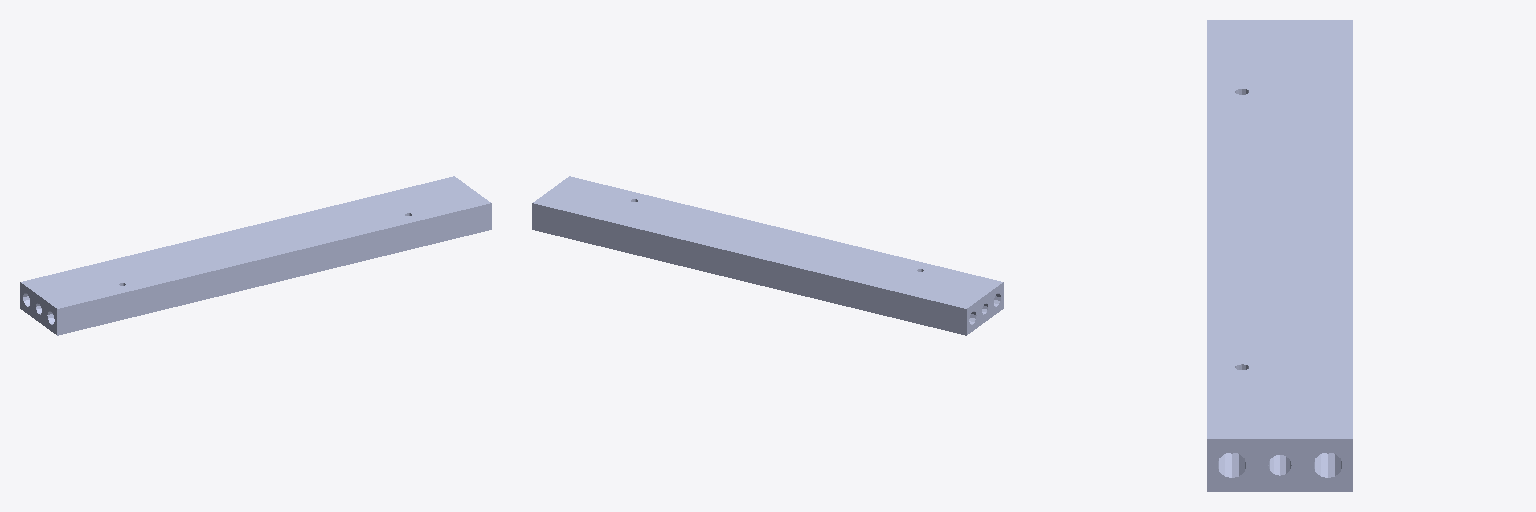
URDF robot description (part2.SLDPRT):
<?xml version="1.0" encoding="utf-8"?>
<!-- This URDF was automatically created by SolidWorks to URDF Exporter! Originally created by [author] ([email redacted]) 
     Commit Version: 1.5.1-0-g916b5db  Build Version: 1.5.7152.31018
     For more information, please see http://wiki.ros.org/sw_urdf_exporter -->
<robot
  name="part2.SLDPRT">
  <link
    name="part2.SLDPRT">
    <inertial>
      <origin
        xyz="9.5872E-19 1.5409E-05 0.0099941"
        rpy="0 0 0" />
      <mass
        value="0.33131" />
      <inertia
        ixx="8.0281E-05"
        ixy="-3.3402E-20"
        ixz="1.6479E-20"
        iyy="0.0030691"
        iyz="2.5556E-08"
        izz="0.0031268" />
    </inertial>
    <visual>
      <origin
        xyz="0 0 0"
        rpy="0 0 0" />
      <geometry>
        <mesh
          filename="package://part2.SLDPRT/meshes/part2.SLDPRT.STL" />
      </geometry>
      <material
        name="">
        <color
          rgba="0.79216 0.81961 0.93333 1" />
        <texture
          filename="package://part2.SLDPRT/textures/" />
      </material>
    </visual>
    <collision>
      <origin
        xyz="0 0 0"
        rpy="0 0 0" />
      <geometry>
        <mesh
          filename="package://part2.SLDPRT/meshes/part2.SLDPRT.STL" />
      </geometry>
    </collision>
  </link>
</robot>

--- Facts derived from the render (not from the file) ---
Views: 3 orthographic renders of the robot side by side, from view 1: azimuth 30°, elevation 25°; view 2: azimuth 150°, elevation 25°; view 3: azimuth 270°, elevation 25°.
Robot: part2.SLDPRT — 1 links, 0 joints (none); root link part2.SLDPRT; default pose: every joint at zero.
Visible links, largest first — view 1: part2.SLDPRT; view 2: part2.SLDPRT; view 3: part2.SLDPRT.
Link boxes in pixels (left/top/right/bottom): part2.SLDPRT: left=20, top=176, right=491, bottom=335; part2.SLDPRT: left=532, top=176, right=1003, bottom=335; part2.SLDPRT: left=1207, top=20, right=1352, bottom=491.
Bounding box of the posed robot: 0.34 × 0.05 × 0.02 m (x, y, z).
1 mesh visuals loaded from 1 distinct referenced files (1 binary STL).